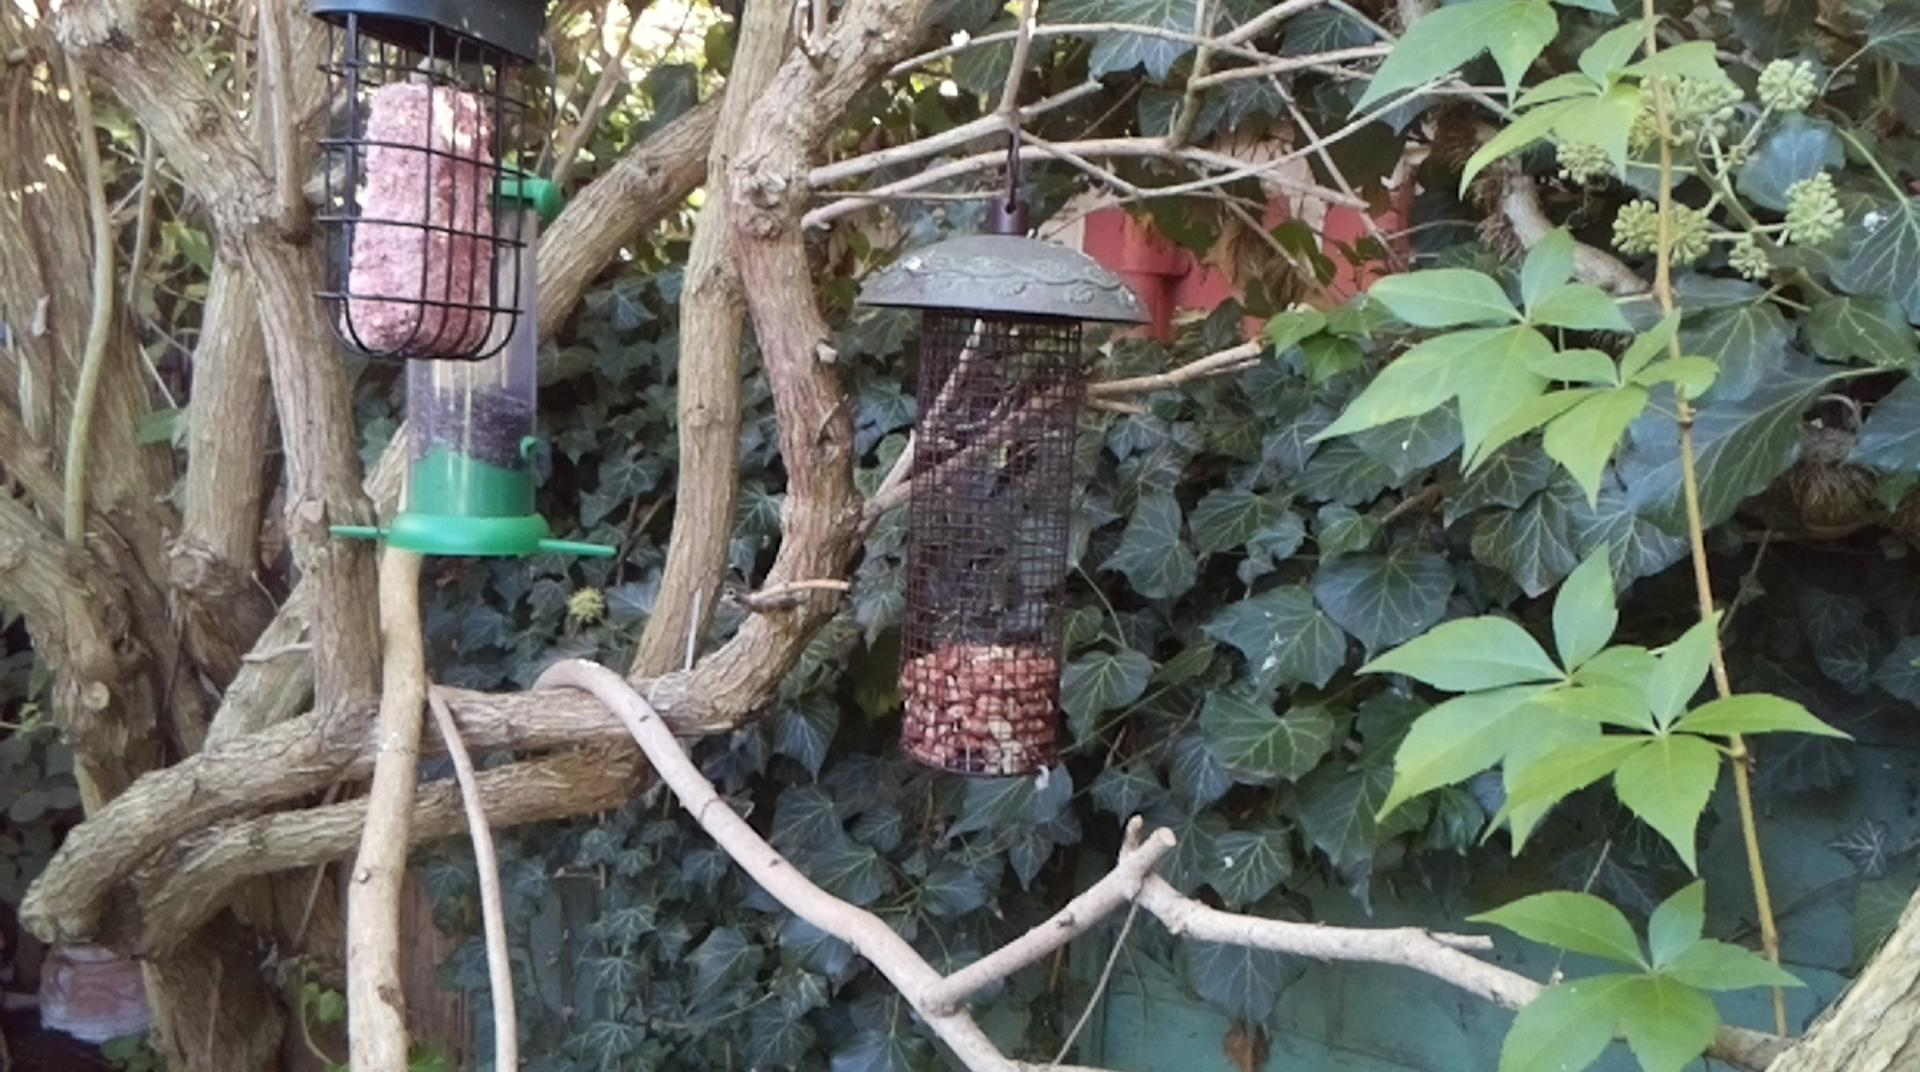unclassified: (1709, 413, 1919, 746)
